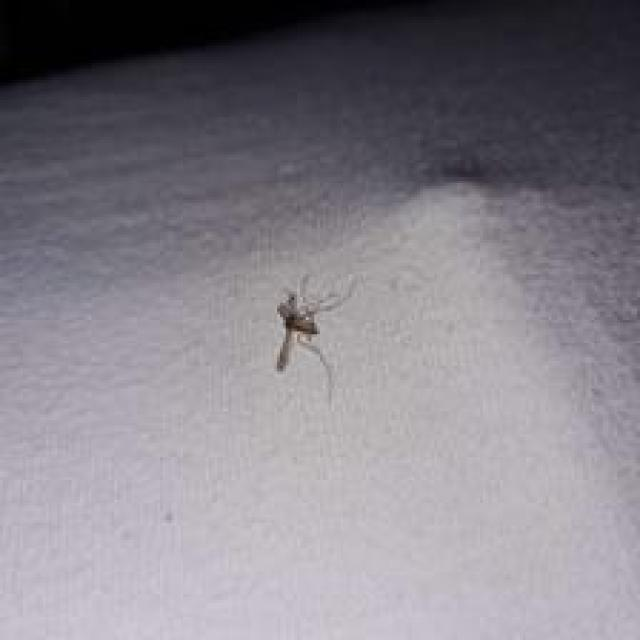Culex: (272, 271, 357, 406)
